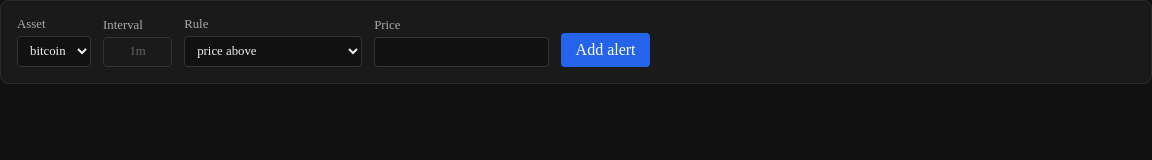
Scenario: AlertForm — rendering › shows low and high inputs for "range" kind
The image size is (1152, 160).
Step 1. Select "price in range" in the dropdown labelled "Rule" → point(273, 51), box [184, 36, 362, 67]
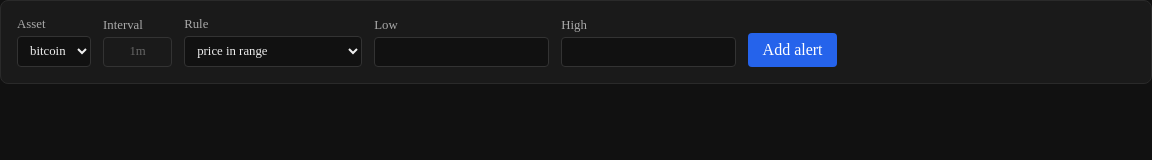
Result: the number of number fields is 2 at [374, 37, 549, 67]; [561, 37, 736, 67]
